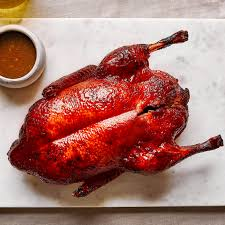peking_duck: (7, 24, 225, 203)
